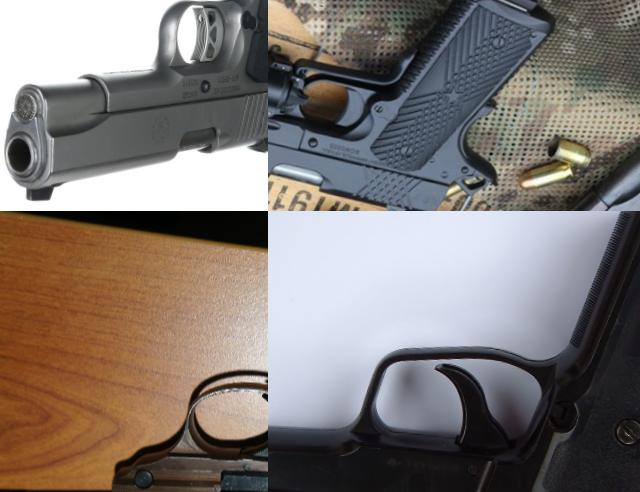handgun: (268, 211, 640, 492), (0, 211, 268, 492), (268, 0, 561, 211), (0, 0, 268, 211), (268, 114, 640, 211)
